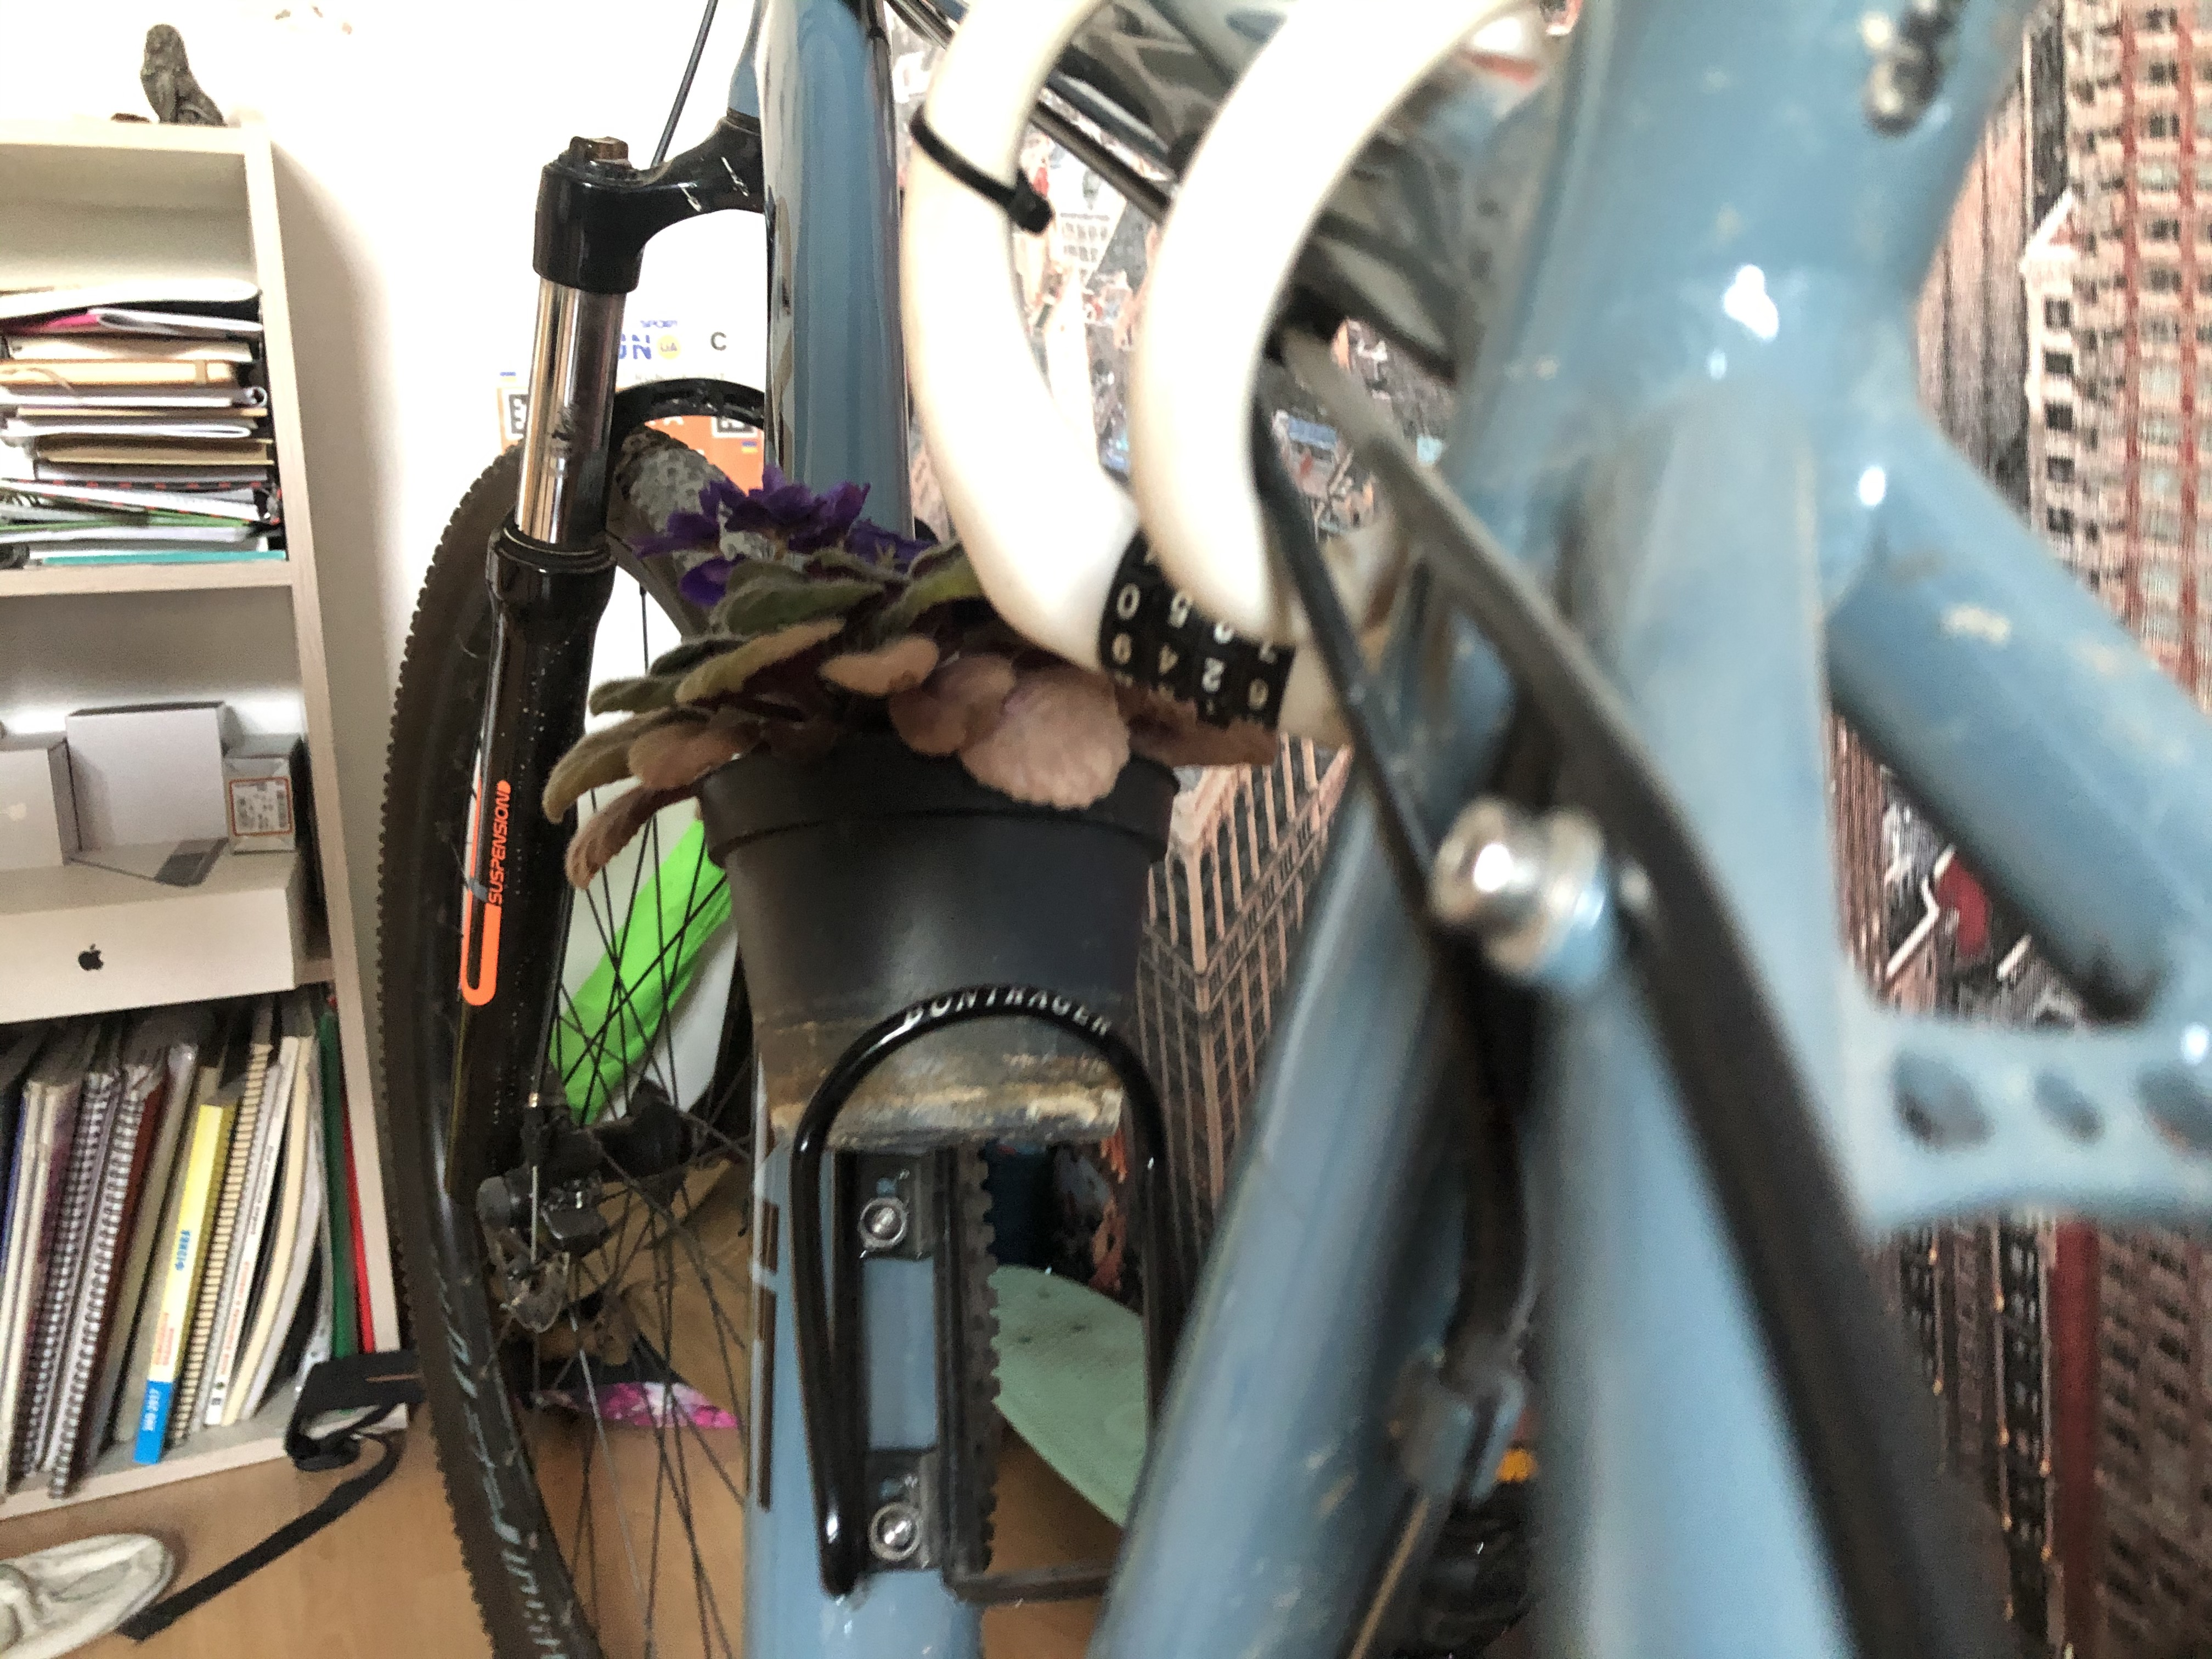ignore: (563, 451, 1223, 843)
